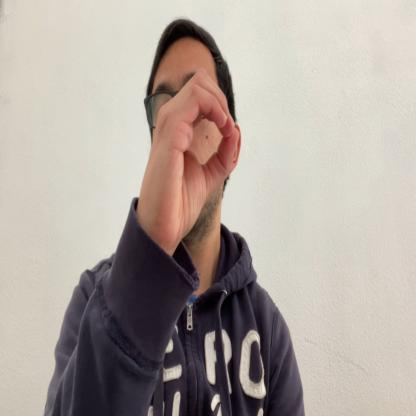O: (142, 72, 239, 254)
